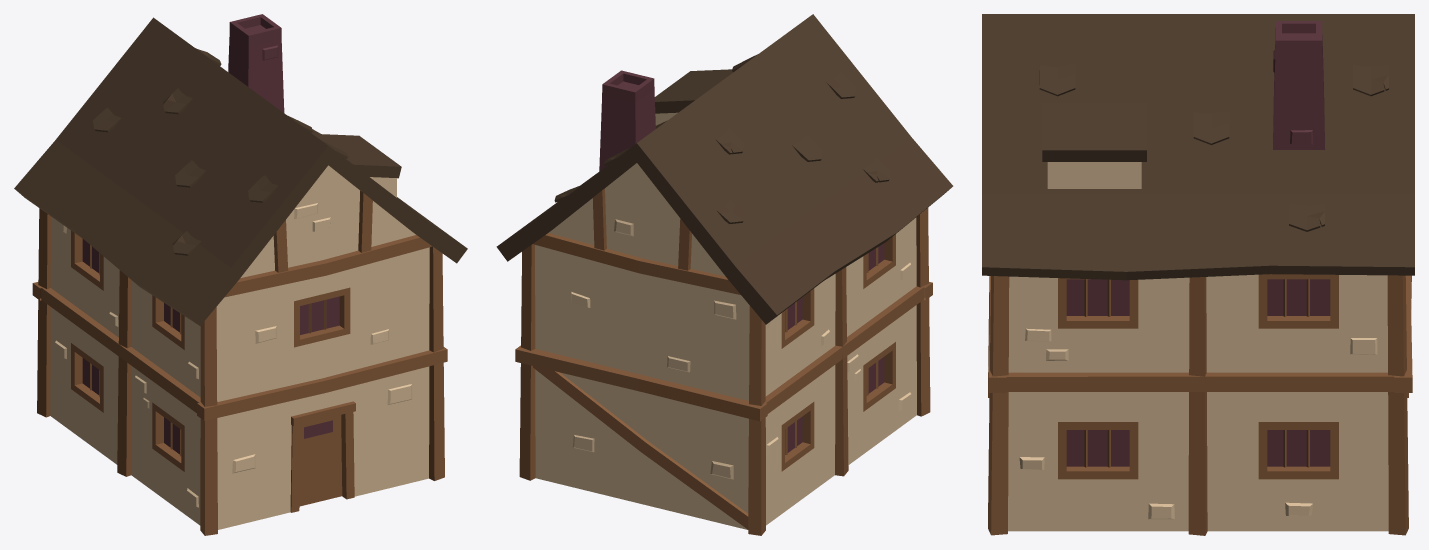
Rendered from house-medieval-medium.fbx.
3 renders of one model, left to right at view 1: azimuth 30°, elevation 25°; view 2: azimuth 150°, elevation 25°; view 3: azimuth 270°, elevation 25°, orthographic. The views are drawn at different scales.
Visible parts, largest first — view 1: house-medieval-medium; view 2: house-medieval-medium; view 3: house-medieval-medium.
Part boxes in pixels (x1,y1,x2,y2): house-medieval-medium: [14, 14, 467, 535]; house-medieval-medium: [496, 14, 953, 535]; house-medieval-medium: [982, 14, 1414, 535].
Size of the model in its own units: 5.93 by 7.53 by 6.34.
